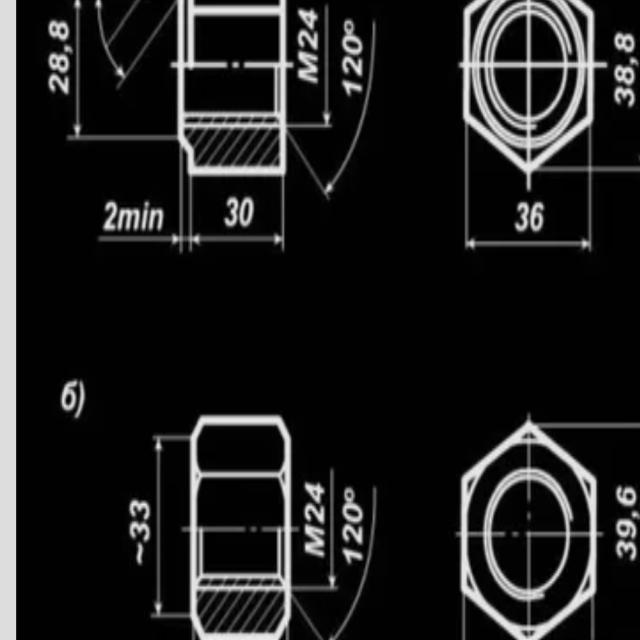marking_line: (292, 11, 382, 202), (72, 0, 178, 144), (292, 479, 380, 640), (464, 174, 596, 255), (95, 154, 189, 255), (150, 428, 190, 624), (187, 176, 288, 253), (94, 0, 178, 88), (294, 469, 339, 590), (290, 7, 333, 132), (546, 409, 640, 432)
numeric: (45, 15, 70, 42), (341, 520, 365, 546), (611, 85, 637, 108), (338, 52, 362, 76), (616, 539, 639, 564), (615, 483, 638, 508), (240, 192, 256, 227), (295, 28, 319, 51), (127, 496, 150, 520), (48, 71, 70, 96), (338, 77, 364, 98), (342, 498, 363, 524), (531, 198, 546, 234), (613, 64, 636, 87), (513, 198, 529, 231), (224, 193, 239, 227), (62, 379, 77, 413), (341, 33, 364, 55), (614, 29, 636, 52), (615, 517, 638, 539), (341, 545, 366, 565), (305, 478, 324, 504), (304, 503, 325, 526), (103, 200, 117, 233), (47, 53, 70, 72), (130, 523, 151, 543), (298, 7, 317, 26)
special_symbol: (344, 15, 354, 33), (628, 52, 640, 67)
